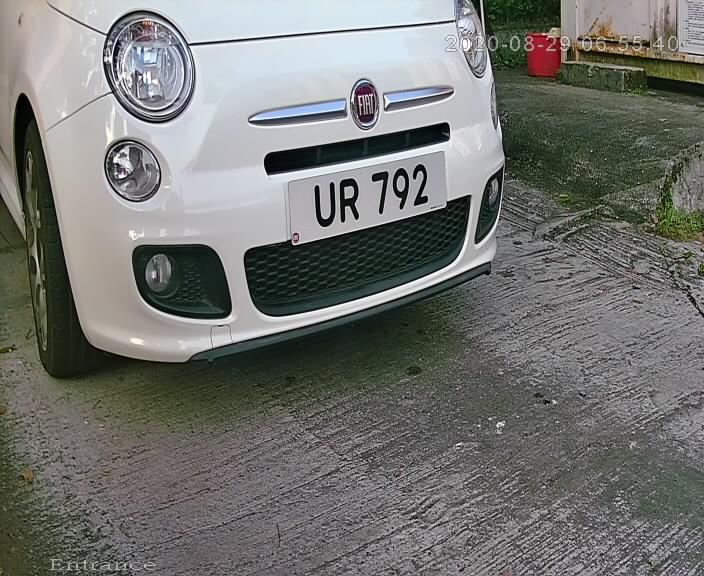Car: (10, 1, 551, 394)
License Plate: (274, 130, 468, 255)
